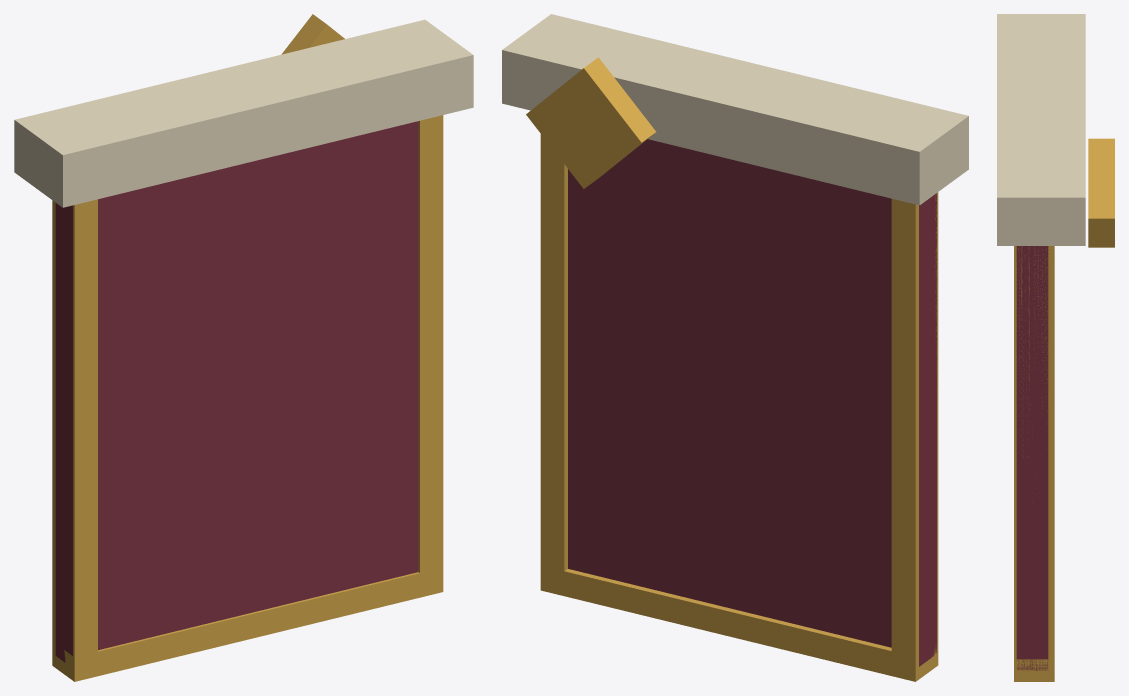
Rendered from founder_cloak.glb.
3 views of the same model, side by side, from view 1: azimuth 30°, elevation 25°; view 2: azimuth 150°, elevation 25°; view 3: azimuth 270°, elevation 25° (orthographic). The views are drawn at different scales.
Parts seen in each view (by area): view 1: founder_cloak; view 2: founder_cloak; view 3: founder_cloak.
Part boxes in pixels (left/top/right/bottom): founder_cloak: left=14, top=14, right=473, bottom=681; founder_cloak: left=502, top=14, right=968, bottom=681; founder_cloak: left=997, top=14, right=1114, bottom=681.
Bounding box in the file's own units: 2.45 × 3.17 × 0.665.
